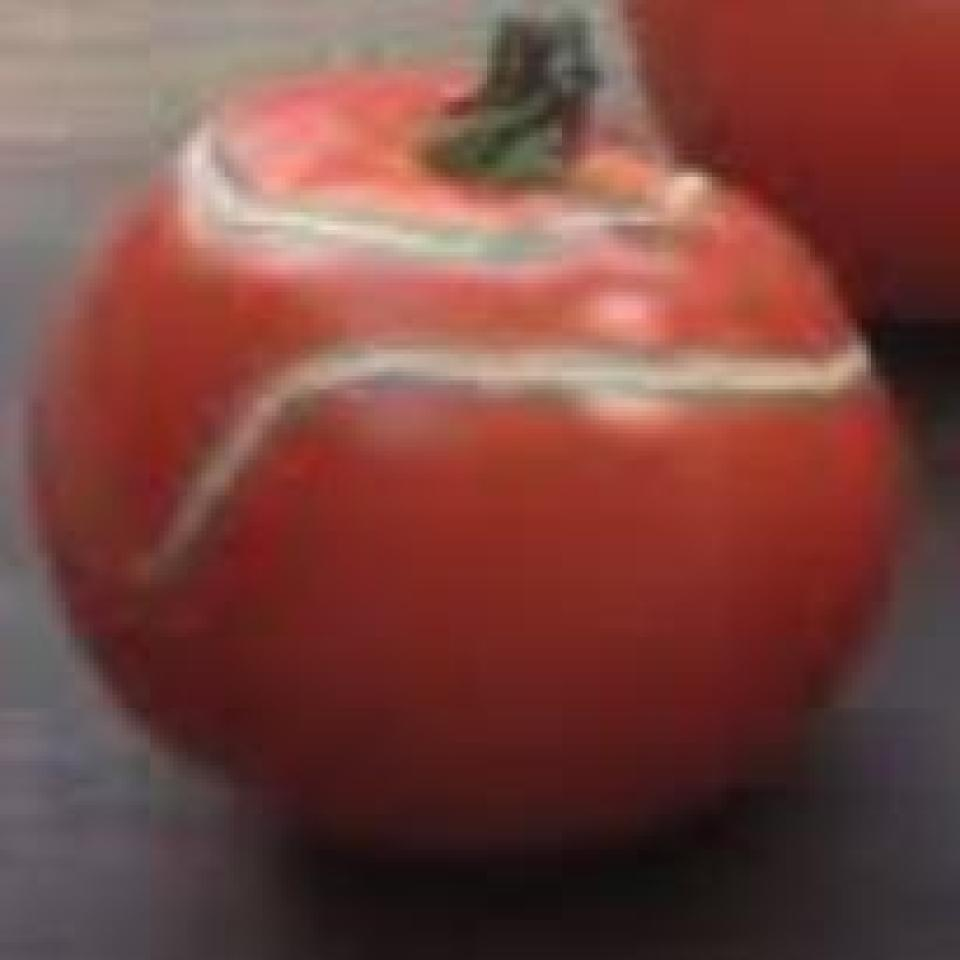Cracking: (96, 323, 882, 608), (141, 86, 716, 268)
